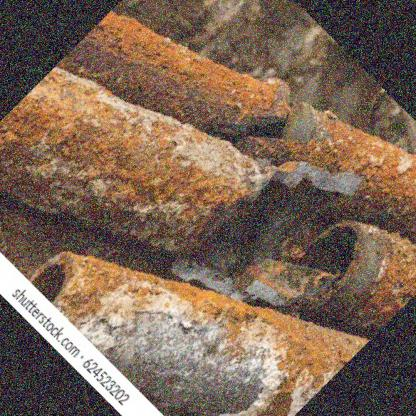burst: (204, 159, 368, 303)
